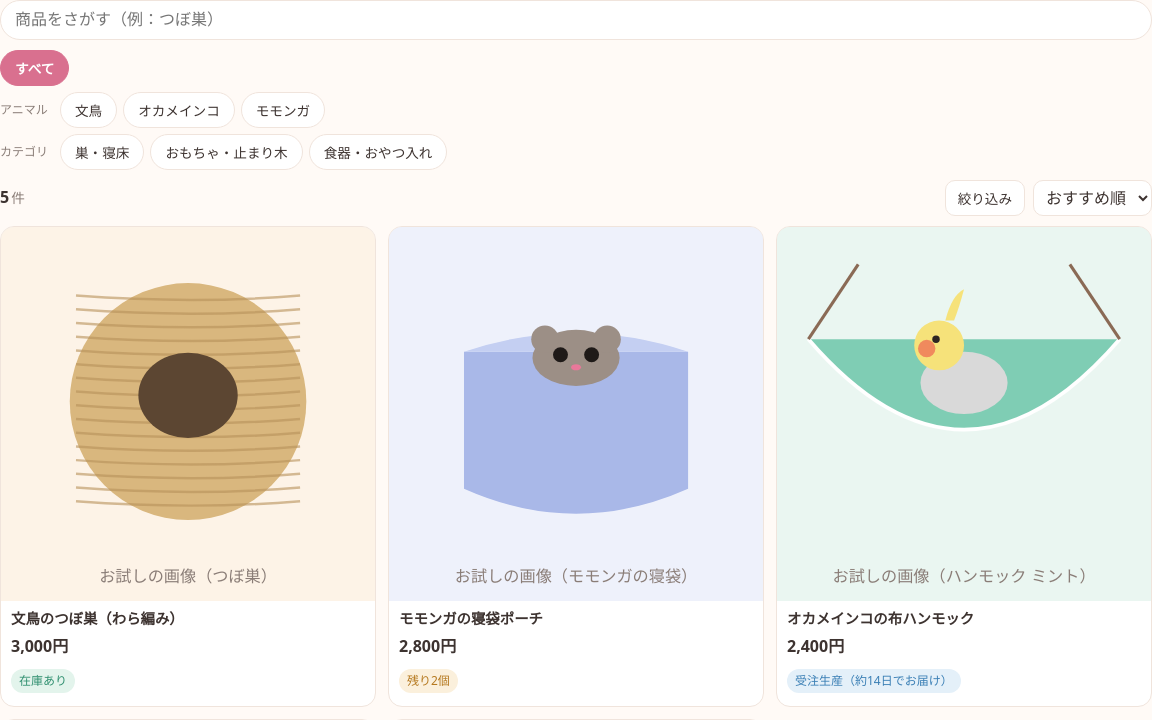
Test case: 絞り込み › キーワードで探せる。見つからなければ「すべての商品を見る」で戻れる
Type "きりん" into the search field at (576, 20), box x1=0 y1=0 x2=1151 y2=40
Then press Enter
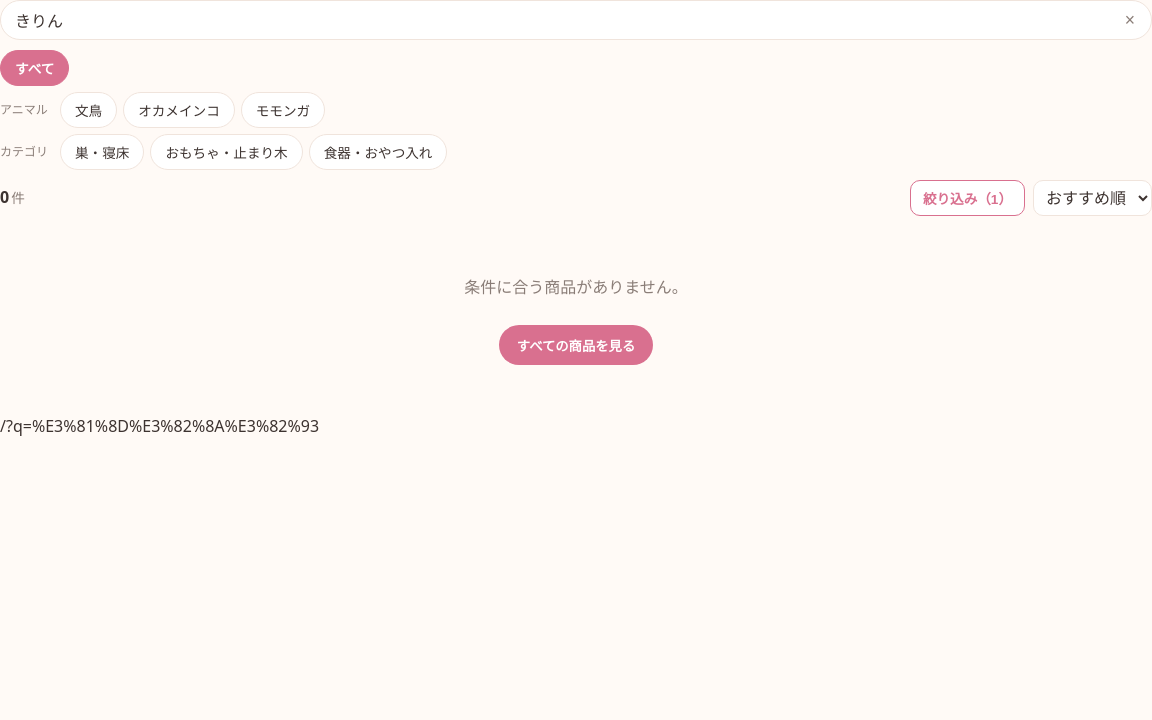
Expected: the text "条件に合う商品がありません。" is shown, x1=464 y1=276 x2=688 y2=298
Click the button "すべての商品を見る" at (576, 345), box x1=499 y1=325 x2=653 y2=365
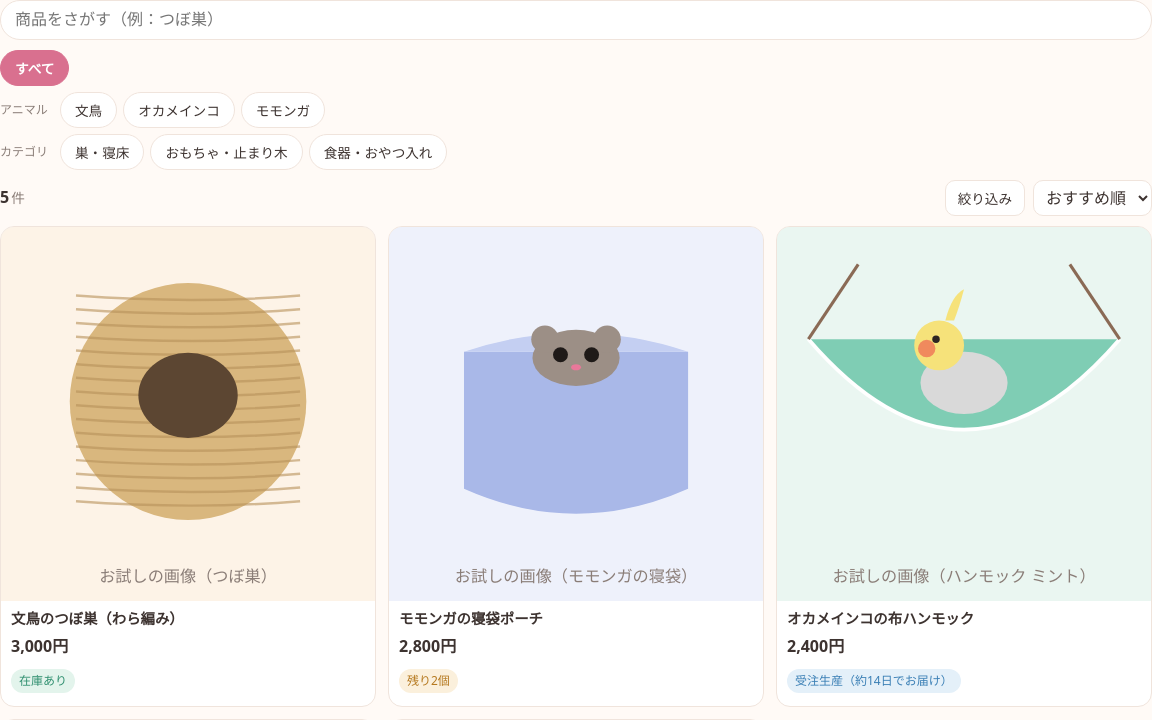
Expected: the number of headings is 5
